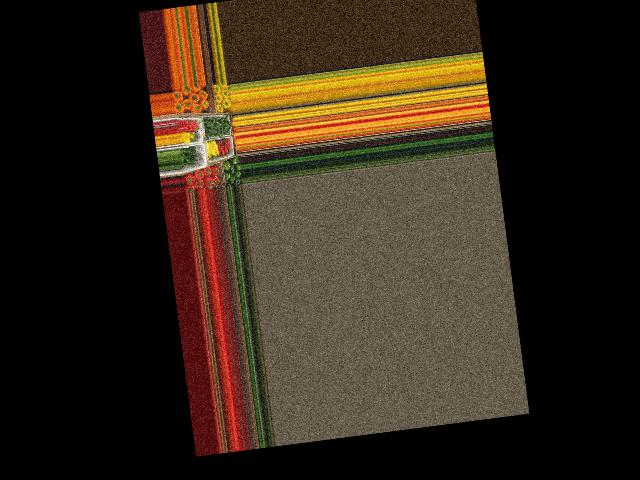bell_pepper: (222, 170, 234, 181)
